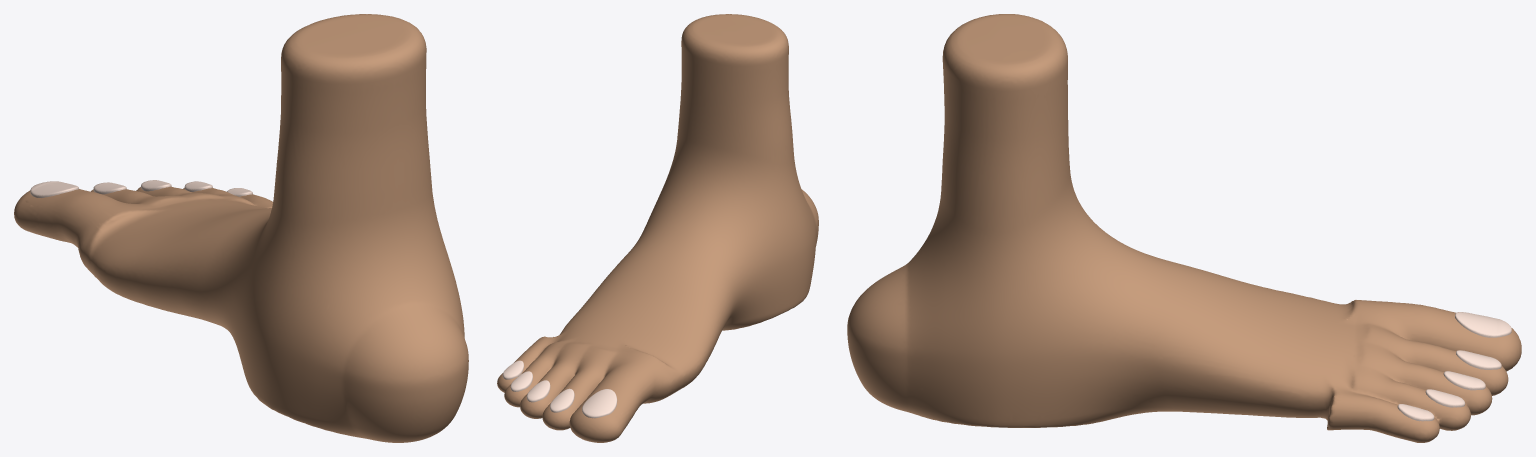
The model's file is foot.glb.
3 views of the same model, side by side, from view 1: azimuth 30°, elevation 25°; view 2: azimuth 150°, elevation 25°; view 3: azimuth 270°, elevation 25° (orthographic). The views are drawn at different scales.
Parts seen in each view (by area): view 1: foot, nails; view 2: foot, nails; view 3: foot, nails.
Boxes of the visible parts, <box> form: foot: <box>14,14,468,442</box>; nails: <box>30,180,252,197</box>; foot: <box>497,14,818,442</box>; nails: <box>502,360,617,418</box>; foot: <box>847,14,1521,442</box>; nails: <box>1397,312,1511,421</box>.
Bounding box in the file's own units: 0.6914 × 1.14 × 1.92.
